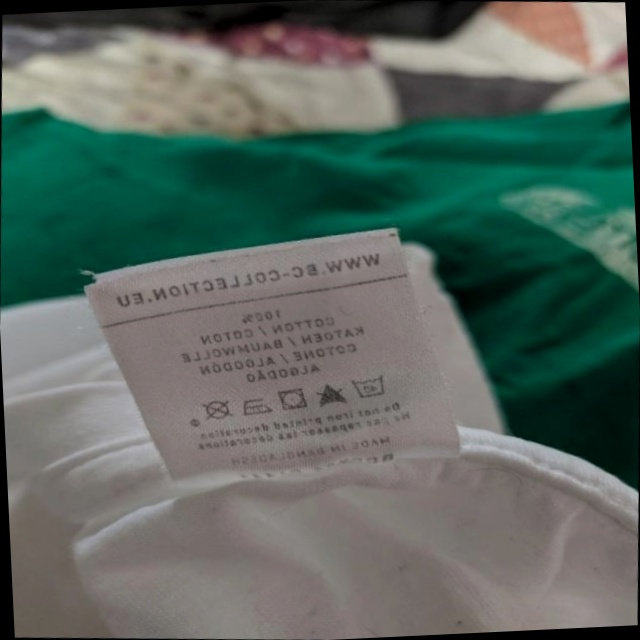40C: (348, 372, 387, 402)
DN_bleach: (312, 376, 347, 411)
DN_dry_clean: (199, 398, 234, 424)
iron_medium: (239, 394, 271, 418)
tumble_dry_low: (275, 384, 310, 414)
